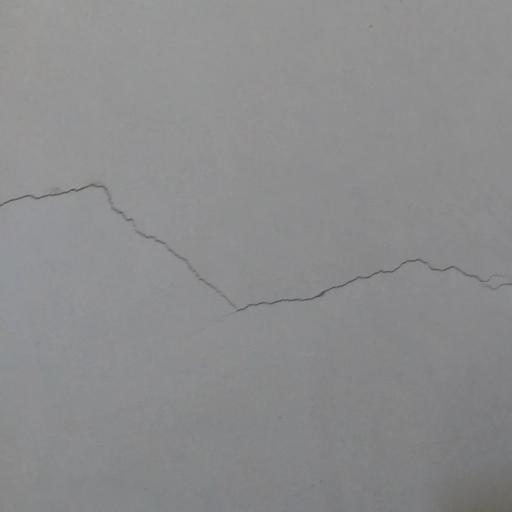minor_crack: (0, 169, 512, 323)
